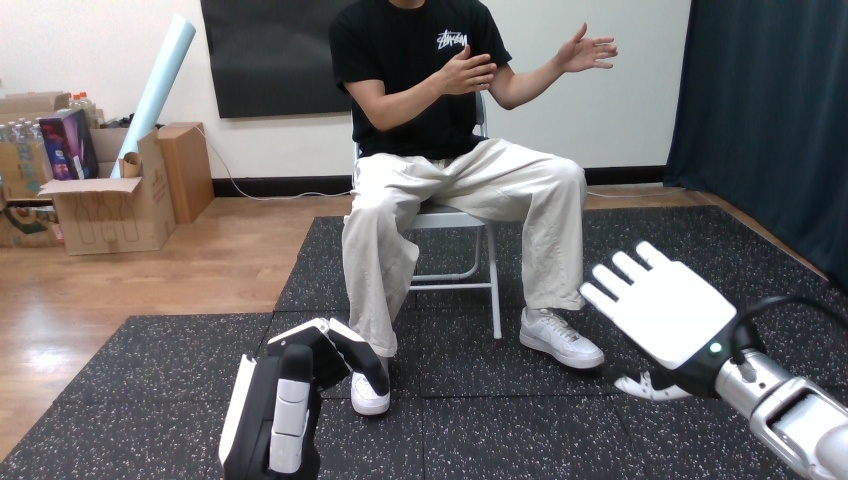left robot hand: (580, 241, 847, 479), (219, 318, 389, 479), (432, 45, 496, 94), (554, 23, 616, 71)
